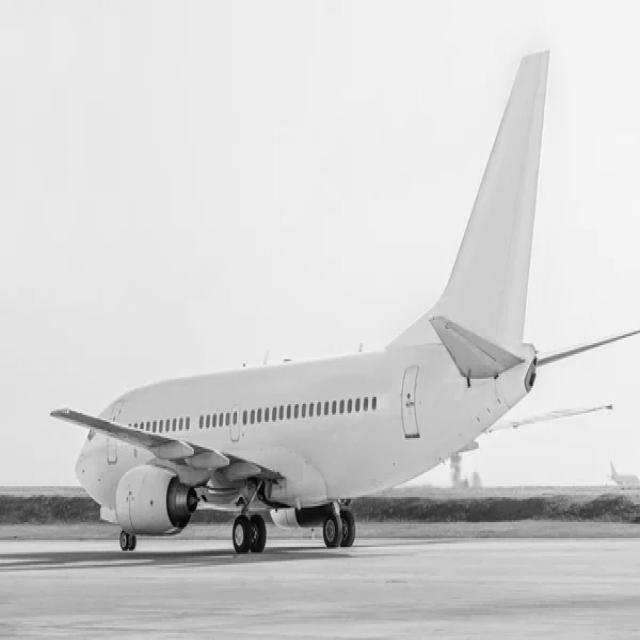Aircraft: (60, 38, 606, 564)
